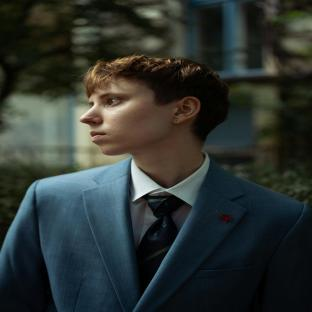Human: (0, 55, 312, 312)
